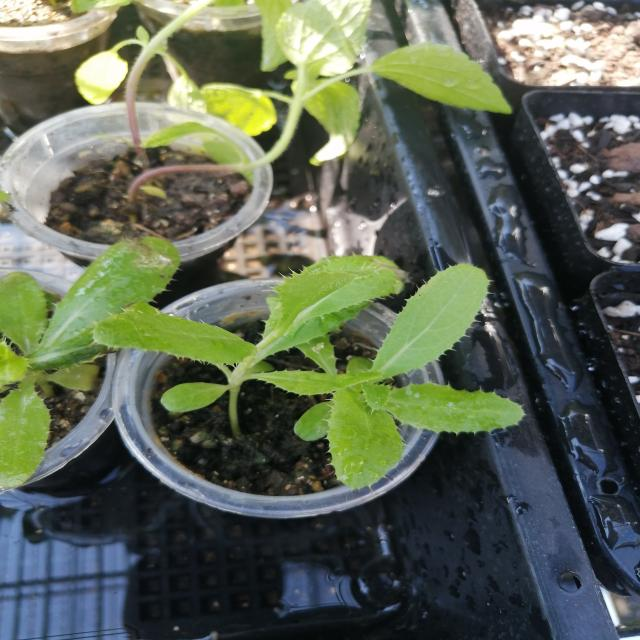field_thistle: (8, 217, 526, 478)
